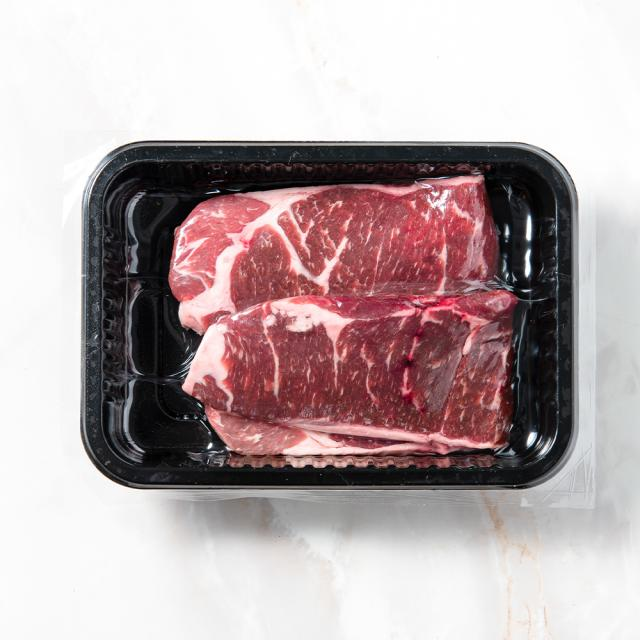beef: (208, 195, 492, 427)
